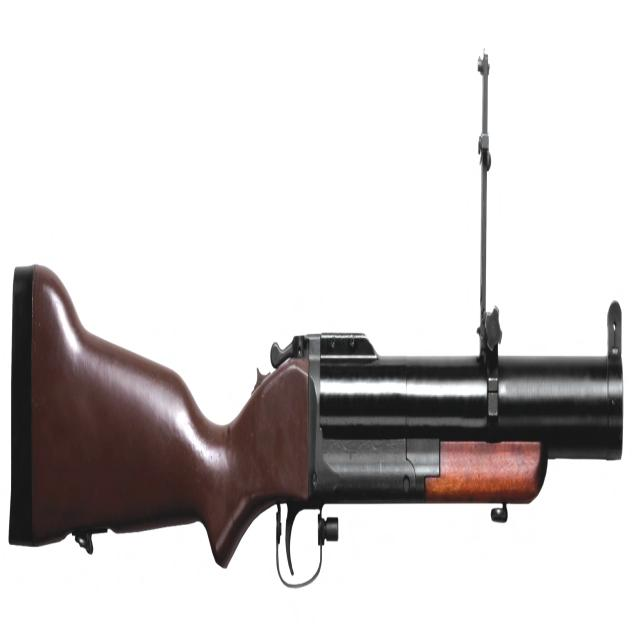Weapon: (9, 265, 622, 566)
